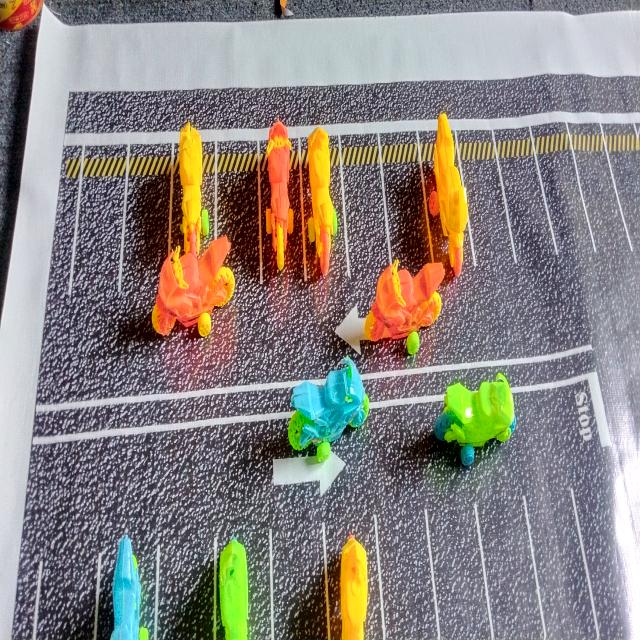bikes: (288, 358, 369, 462), (151, 237, 235, 337), (365, 259, 445, 355), (435, 373, 515, 465)
occupied: (322, 516, 386, 640), (421, 113, 468, 276), (300, 127, 350, 280), (259, 120, 304, 279), (212, 529, 274, 640), (97, 534, 156, 640), (168, 123, 214, 256)
others: (0, 0, 44, 31), (280, 0, 293, 17)
slots: (572, 441, 640, 640), (527, 489, 596, 640), (481, 496, 542, 638), (429, 505, 490, 640), (381, 503, 437, 638), (73, 176, 125, 309), (158, 523, 214, 640), (273, 521, 328, 640), (500, 157, 557, 271), (538, 150, 596, 254), (122, 174, 170, 298), (579, 154, 631, 265), (37, 547, 98, 640), (464, 162, 516, 266), (343, 165, 389, 279), (218, 163, 260, 282), (385, 163, 430, 273), (610, 153, 640, 257)
